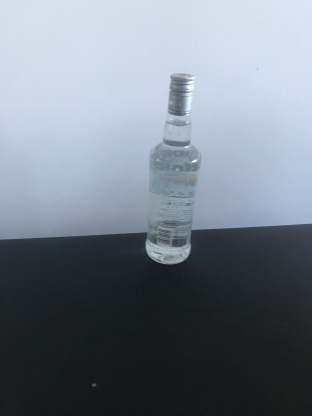nakretka: (165, 71, 196, 118)
